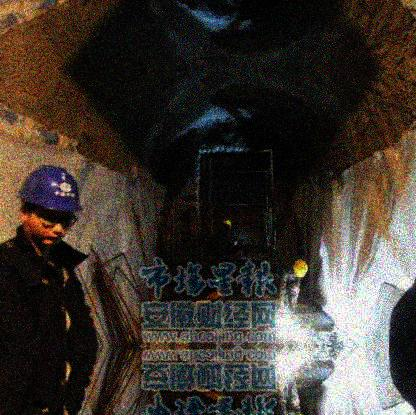helmet: (16, 165, 84, 249)
